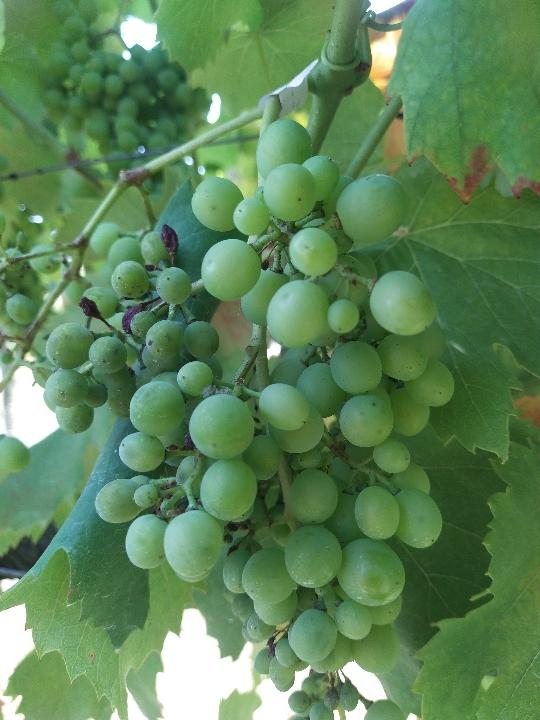grape: (36, 118, 457, 680)
